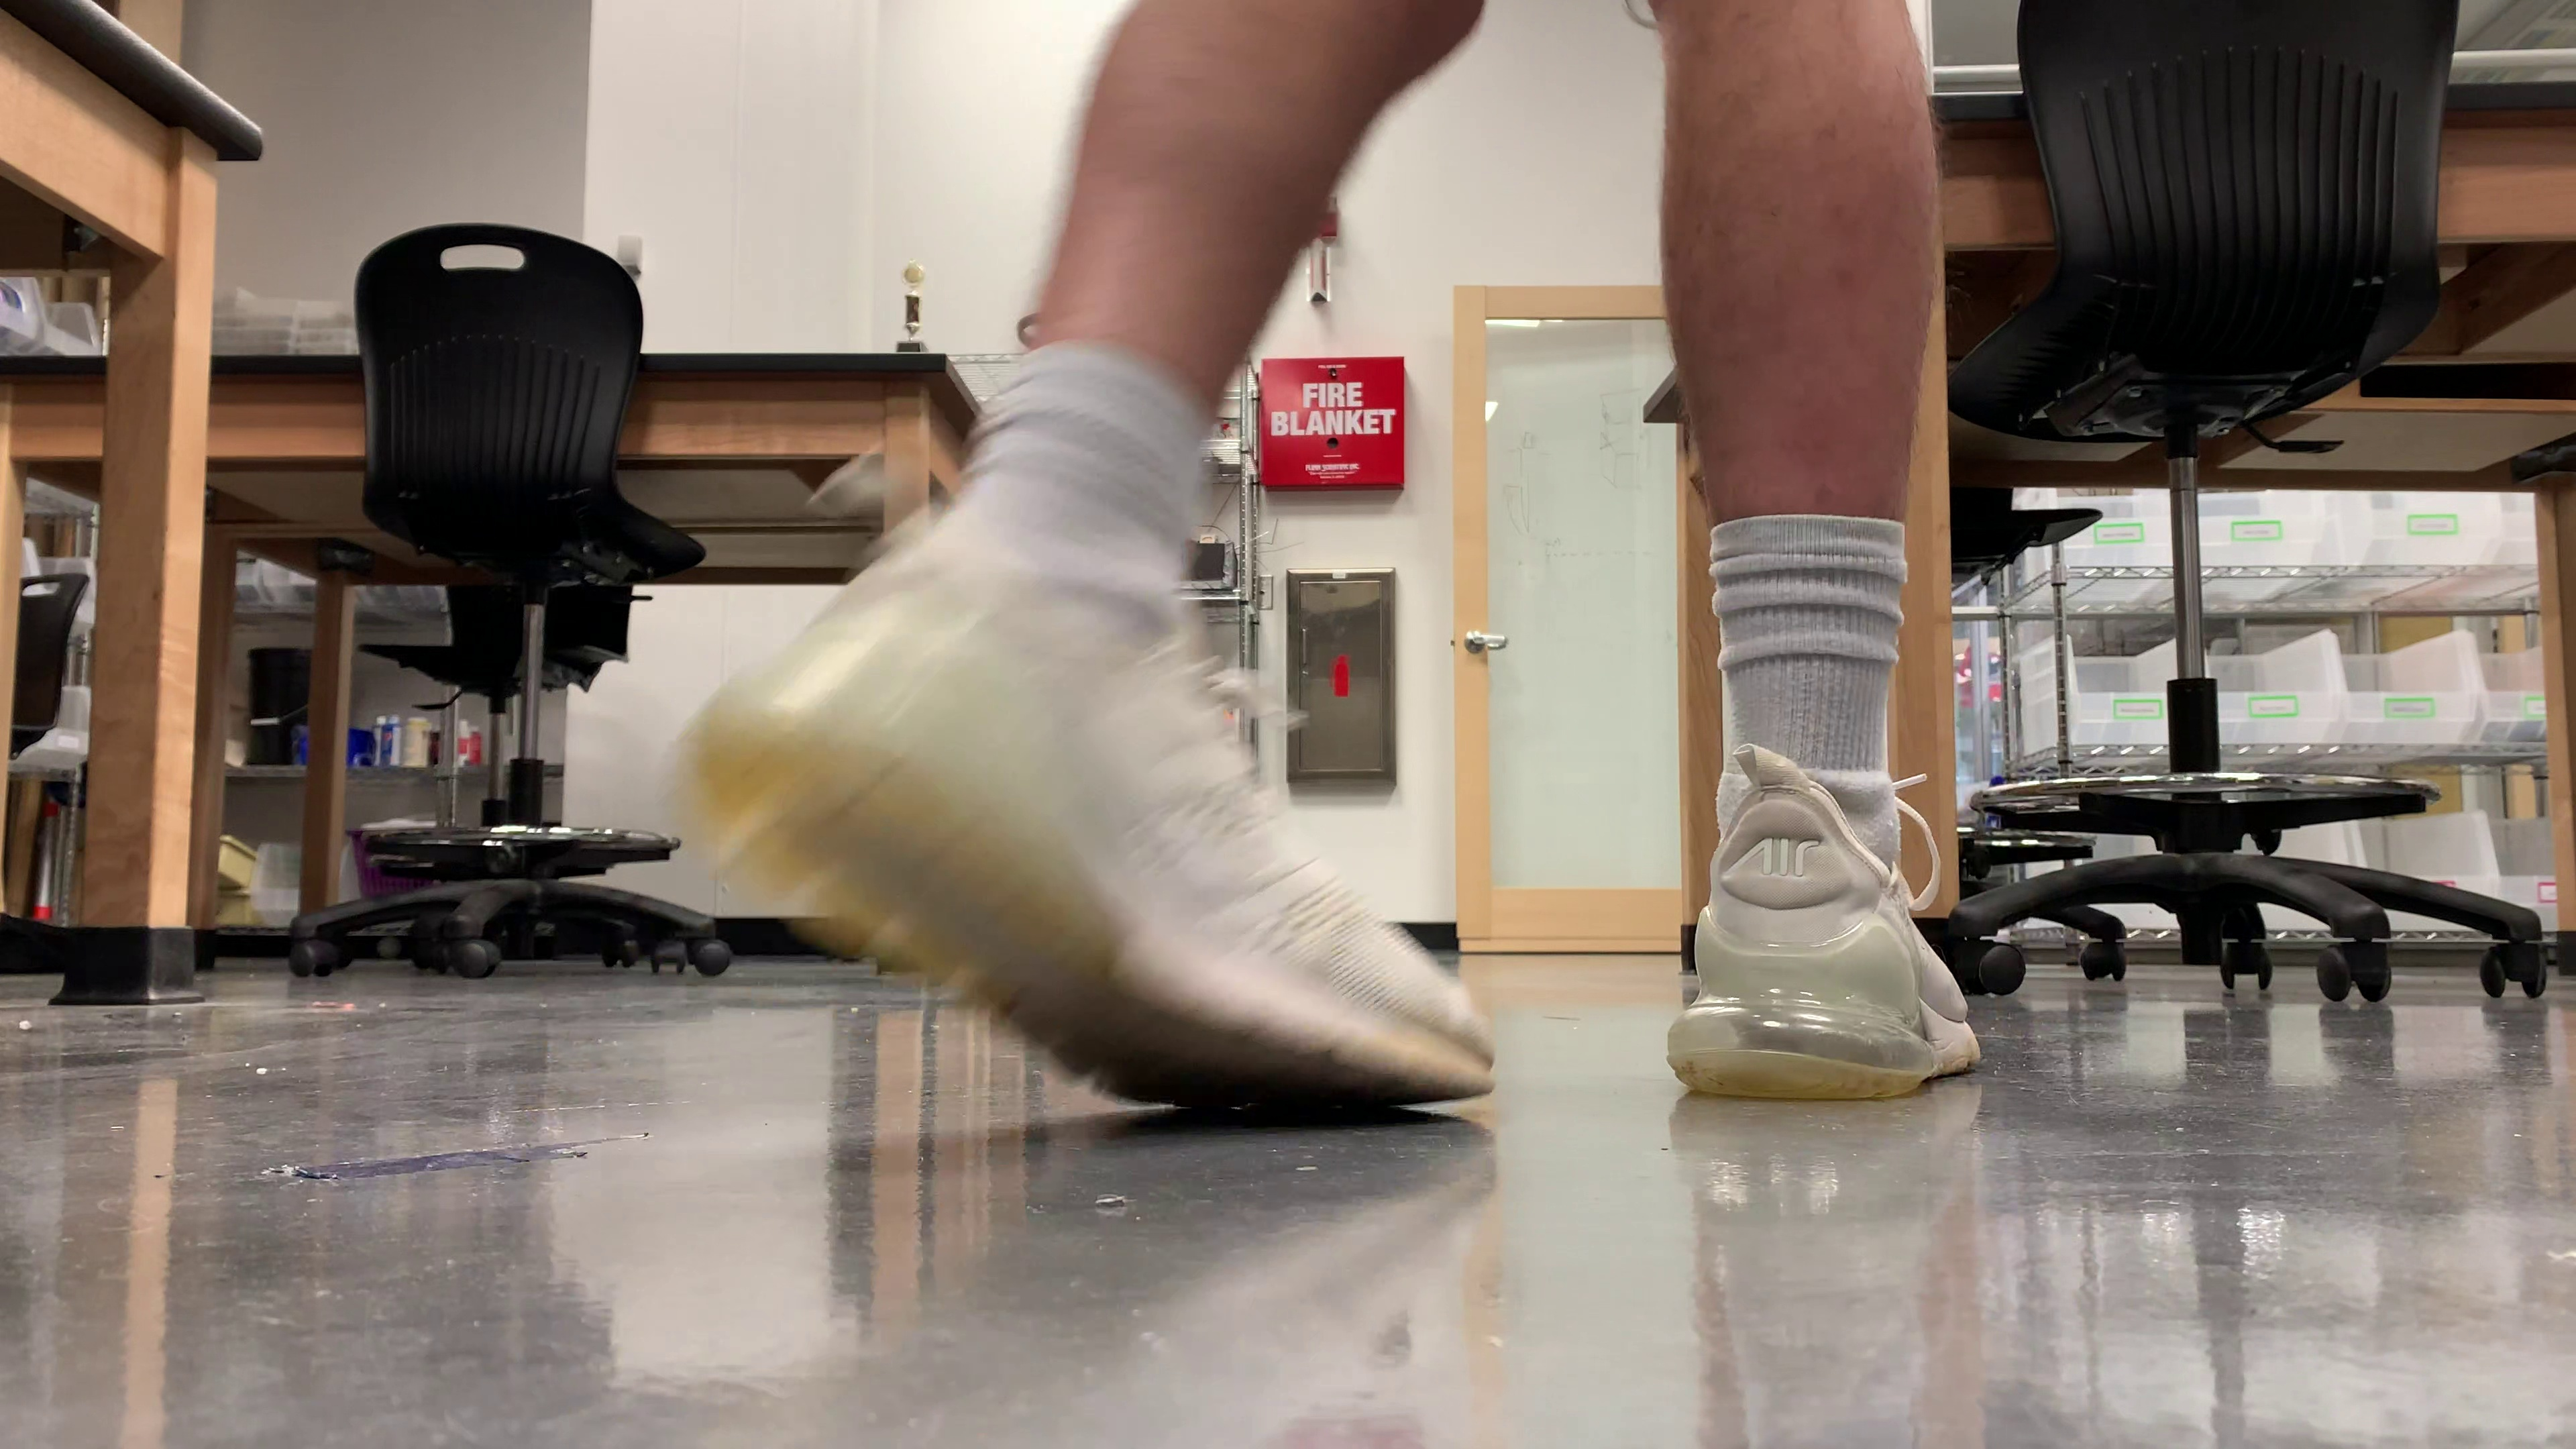shoe: (1665, 784, 1982, 1102)
